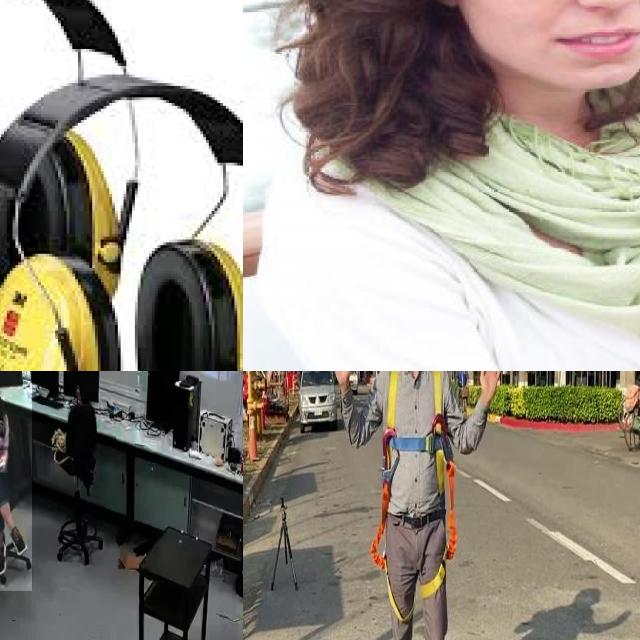Ear-protection: (24, 125, 121, 294), (129, 236, 243, 371), (0, 245, 118, 371)
Harness: (371, 371, 458, 626)
face_nomask: (475, 0, 640, 70)
hand_noglove: (0, 450, 8, 473), (0, 418, 4, 436)
person: (263, 0, 640, 371), (0, 371, 32, 591)
shoes: (10, 523, 29, 560), (0, 538, 10, 579)
